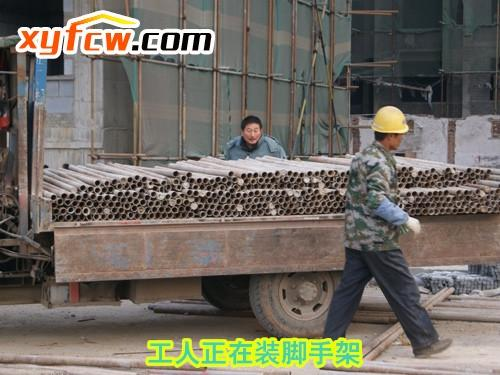boots: (413, 335, 452, 357)
gloves: (373, 196, 423, 235)
hard-hat: (370, 105, 409, 134)
person: (320, 104, 453, 360), (237, 130, 288, 160)
